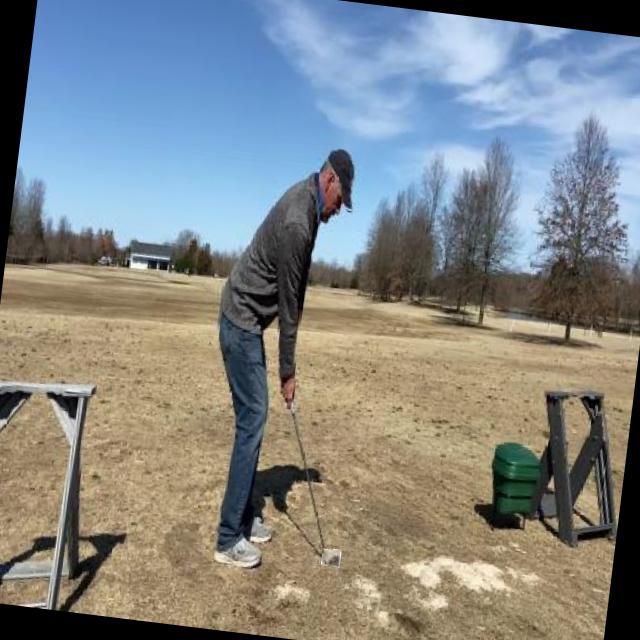club head: (321, 548, 341, 567)
